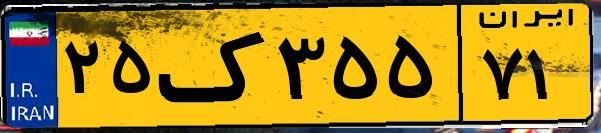1: (525, 38, 570, 115)
2: (57, 26, 110, 100)
3: (270, 28, 330, 110)
5: (385, 28, 445, 110), (330, 28, 385, 110), (110, 28, 158, 98)
7: (475, 38, 525, 113)
ک: (158, 12, 270, 120)
